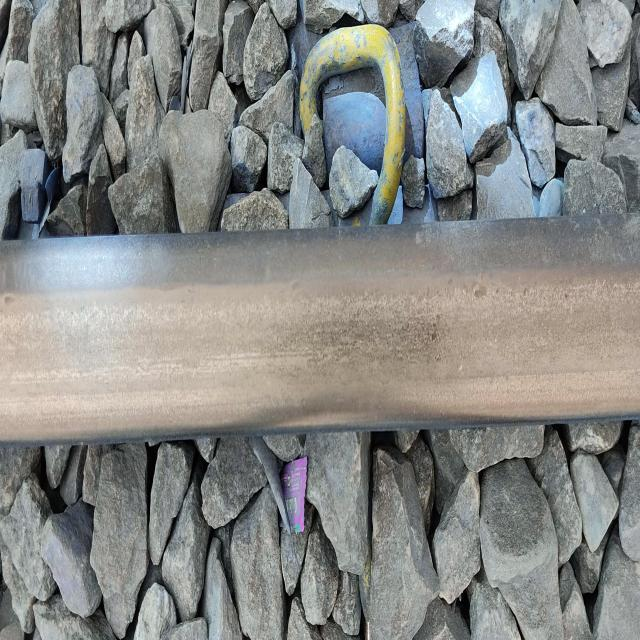Good Fasteners: (278, 17, 441, 261)
